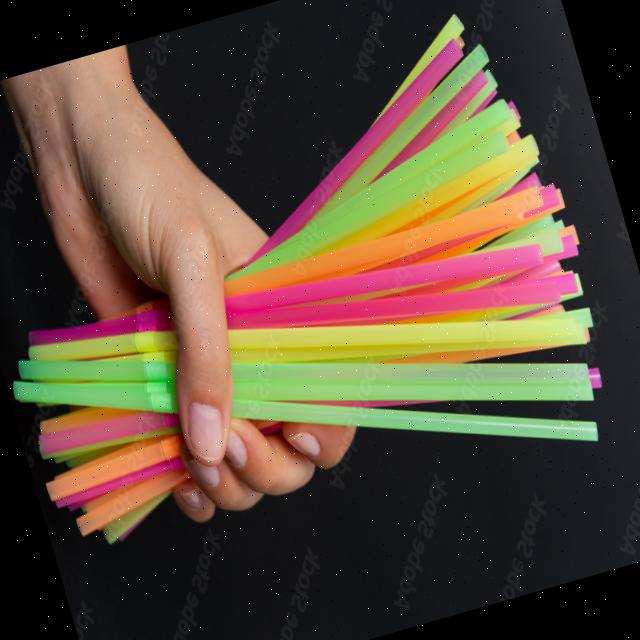plastic: (226, 208, 568, 356)
